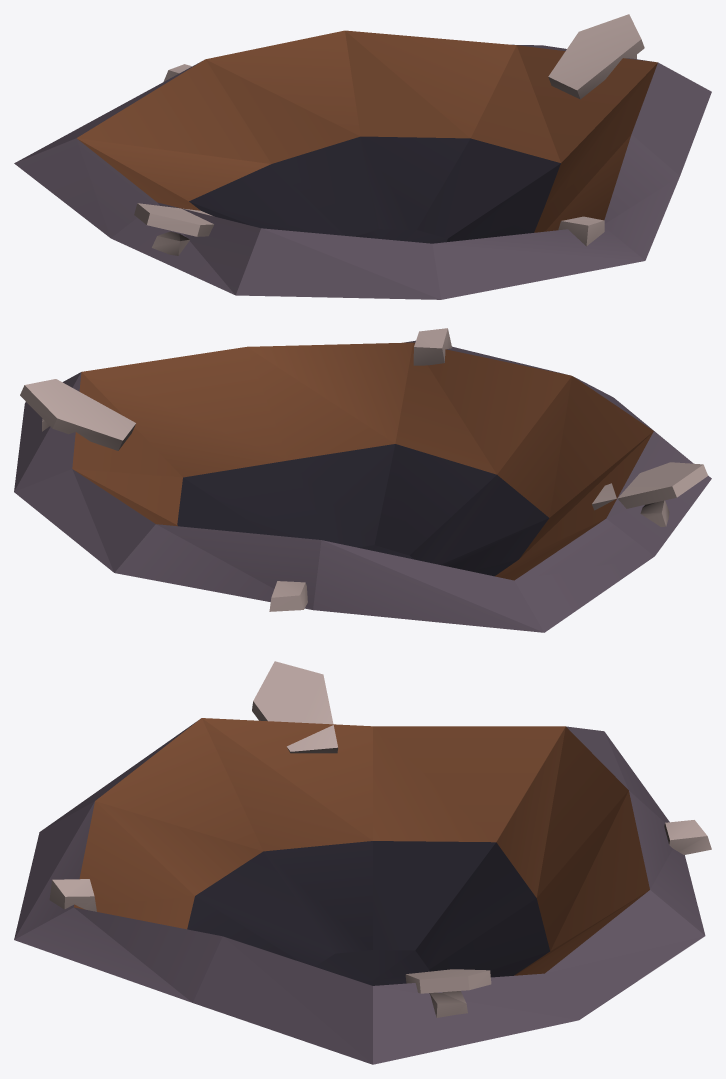
3 views of the same model, one above another, from view 1: azimuth 30°, elevation 25°; view 2: azimuth 150°, elevation 25°; view 3: azimuth 270°, elevation 25° (orthographic). The views are drawn at different scales.
Parts seen in each view (by area): view 1: body_pal_leatherShadow, body_pal_asphalt, body_pal_uiDark, body_pal_sidewalk; view 2: body_pal_leatherShadow, body_pal_asphalt, body_pal_uiDark, body_pal_sidewalk; view 3: body_pal_leatherShadow, body_pal_asphalt, body_pal_uiDark, body_pal_sidewalk.
Boxes of the visible parts, x1,y1,x2,y2 form: body_pal_leatherShadow: (76,30,657,232); body_pal_asphalt: (14,44,711,299); body_pal_uiDark: (189,136,560,243); body_pal_sidewalk: (134,14,644,255); body_pal_leatherShadow: (72,342,653,580); body_pal_asphalt: (14,340,711,632); body_pal_uiDark: (177,444,548,576); body_pal_sidewalk: (20,328,707,611); body_pal_leatherShadow: (74,718,649,975); body_pal_asphalt: (14,720,705,1064); body_pal_uiDark: (187,841,549,985); body_pal_sidewalk: (49,661,711,1017).
Bounding box in the file's own units: 5.1 × 1.13 × 4.43.
